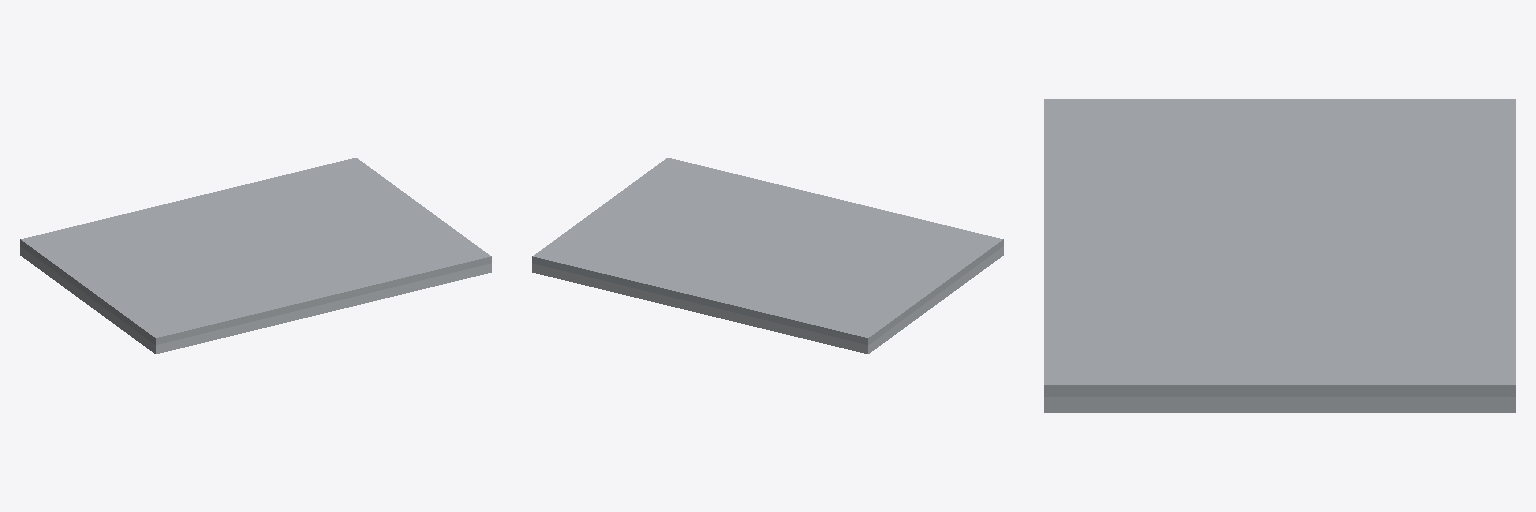
URDF robot description (macbook_laptop):
<?xml version="1.0"?>
<robot name="macbook_laptop">
  <!-- Base / keyboard half lying on floor -->
  <link name="base_link">
    <inertial>
      <origin xyz="0 0 0" rpy="0 0 0"/>
      <mass value="0.90"/>
      <inertia ixx="0.003376" ixy="0" ixz="0" iyy="0.006936" iyz="0" izz="0.010302"/>
    </inertial>
    <visual>
      <origin xyz="0 0 0" rpy="0 0 0"/>
      <geometry>
        <box size="0.304 0.212 0.008"/>
      </geometry>
      <material name="aluminum">
        <color rgba="0.75 0.77 0.78 1.0"/>
      </material>
    </visual>
    <collision>
      <origin xyz="0 0 0" rpy="0 0 0"/>
      <geometry>
        <box size="0.304 0.212 0.008"/>
      </geometry>
    </collision>
  </link>

  <!-- Lid / display half -->
  <link name="lid_link">
    <inertial>
      <origin xyz="0 0.106 0.003" rpy="0 0 0"/>
      <mass value="0.39"/>
      <inertia ixx="0.001499" ixy="0" ixz="0" iyy="0.003082" iyz="0" izz="0.004579"/>
    </inertial>
    <visual>
      <origin xyz="0 0.106 0.003" rpy="0 0 0"/>
      <geometry>
        <box size="0.304 0.212 0.006"/>
      </geometry>
      <material name="aluminum_dark">
        <color rgba="0.70 0.72 0.74 1.0"/>
      </material>
    </visual>
    <collision>
      <origin xyz="0 0.106 0.003" rpy="0 0 0"/>
      <geometry>
        <box size="0.304 0.212 0.006"/>
      </geometry>
    </collision>
  </link>

  <!-- Hinge at rear edge of base -->
  <joint name="display_hinge" type="revolute">
    <parent link="base_link"/>
    <child link="lid_link"/>
    <origin xyz="0 -0.106 0.004" rpy="0 0 0"/>
    <axis xyz="1 0 0"/>
    <limit lower="0" upper="2.10" effort="5.0" velocity="3.0"/>
    <dynamics damping="0.05" friction="0.1"/>
  </joint>
</robot>

--- Render facts (derived) ---
Views: 3 orthographic renders of the robot side by side, from view 1: azimuth 30°, elevation 25°; view 2: azimuth 150°, elevation 25°; view 3: azimuth 270°, elevation 25°.
Model macbook_laptop with 2 links and 1 joints (1 revolute), rooted at base_link, posed all joints at 0.
Links seen in each view (by area): view 1: lid_link, base_link; view 2: lid_link, base_link; view 3: lid_link, base_link.
Boxes of the visible links, x1,y1,x2,y2 form: lid_link: (20,158,491,344); base_link: (20,246,491,353); lid_link: (532,158,1003,344); base_link: (532,246,1003,353); lid_link: (1044,99,1515,396); base_link: (1044,397,1515,412).
Size in the robot's own frame: 0.304 by 0.212 by 0.014 metres.
Geometry: primitives only (box / cylinder / sphere), no mesh files.
